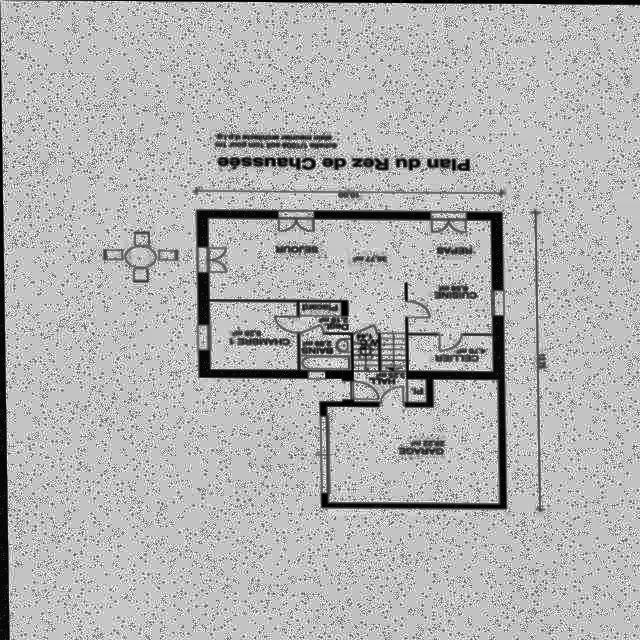room: (207, 218, 492, 333), (324, 378, 498, 506), (208, 301, 297, 370), (352, 333, 426, 403), (407, 334, 493, 371), (298, 333, 350, 370)
